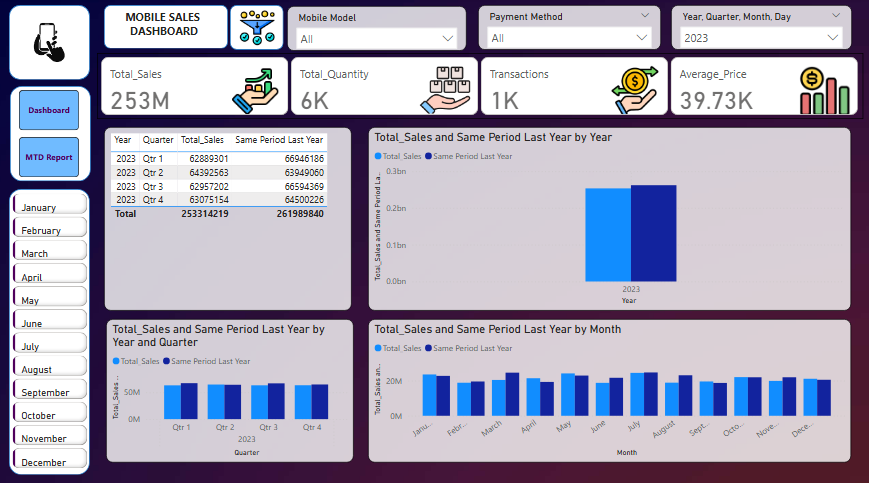

The dashboard page shown, as its layout file describes it:
{"tool":"powerbi","page":{"name":"Same Period Last Year","canvas":[1280,720],"ordinal":2},"visuals":[{"type":"shape","box":[13.2,11.8,119,110.2],"z":0},{"type":"image","box":[12.9,11.4,118.6,110],"z":1000},{"type":"shape","box":[14.3,131.4,118.6,140],"z":2000},{"type":"shape","box":[12.9,281.4,118.6,420],"z":3000},{"type":"advancedSlicerVisual","fields":{"Values":["Custom_Calendar.Date.Variation.Date Hierarchy.Month"]},"box":[12.9,282.9,120,418.6],"z":4000},{"type":"cardVisual","fields":{"Data":["sales_data.Total_Sales","sales_data.Total_Quantity","sales_data.Transactions","sales_data.Average_Price"]},"box":[142.9,82.9,1125.7,97.1],"z":5000},{"type":"slicer","fields":{"Values":["sales_data.Mobile Model"]},"box":[421.4,12.9,264.3,65.7],"z":6000},{"type":"slicer","fields":{"Values":["sales_data.Payment Method"]},"box":[702.9,11.4,268.6,65.7],"z":7000},{"type":"slicer","fields":{"Values":["Custom_Calendar.Date.Variation.Date Hierarchy.Year","Custom_Calendar.Date.Variation.Date Hierarchy.Quarter","Custom_Calendar.Date.Variation.Date Hierarchy.Month","Custom_Calendar.Date.Variation.Date Hierarchy.Day"]},"box":[985.7,11.4,265.7,65.7],"z":8000},{"type":"shape","box":[338.6,11.4,78.6,65.7],"z":9000},{"type":"image","box":[335.7,12.9,85.7,64.3],"z":10000},{"type":"shape","box":[152.9,11.4,182.9,64.3],"z":11000},{"type":"textbox","box":[165.7,12.9,150,54.3],"z":12000},{"type":"tableEx","fields":{"Values":["Custom_Calendar.Date.Variation.Date Hierarchy.Year","Custom_Calendar.Date.Variation.Date Hierarchy.Quarter","sales_data.Total_Sales","sales_data.Same Period Last Year"]},"box":[152.9,191.4,364.3,270],"z":13000},{"type":"clusteredColumnChart","fields":{"Category":["Custom_Calendar.Date.Variation.Date Hierarchy.Year","Custom_Calendar.Date.Variation.Date Hierarchy.Quarter"],"Y":["sales_data.Total_Sales","sales_data.Same Period Last Year"]},"box":[541.4,191.4,710,270],"z":14000},{"type":"clusteredColumnChart","fields":{"Y":["sales_data.Total_Sales","sales_data.Same Period Last Year"],"Category":["Custom_Calendar.Date.Variation.Date Hierarchy.Year","Custom_Calendar.Date.Variation.Date Hierarchy.Quarter","Custom_Calendar.Date.Variation.Date Hierarchy.Month","Custom_Calendar.Date.Variation.Date Hierarchy.Day"]},"box":[541.4,472.9,710,211.4],"z":15000},{"type":"clusteredColumnChart","fields":{"Category":["Custom_Calendar.Date.Variation.Date Hierarchy.Year","Custom_Calendar.Date.Variation.Date Hierarchy.Quarter"],"Y":["sales_data.Total_Sales","sales_data.Same Period Last Year"]},"box":[155.7,472.9,364.3,211.4],"z":16000},{"type":"pageNavigator","box":[28.6,137.1,88.6,128.6],"z":17000}]}

Visuals, with their boxes in screenshot pixels (x1, y1, x2, y2), scaled from the page's 1280x720 canvas onto the 869x483 screenshot:
shape: [x1=9, y1=8, x2=90, y2=82]
image: [x1=9, y1=8, x2=89, y2=81]
shape: [x1=10, y1=88, x2=90, y2=182]
shape: [x1=9, y1=189, x2=89, y2=471]
advancedSlicerVisual - Custom_Calendar.Date.Variation.Date Hierarchy.Month: [x1=9, y1=190, x2=90, y2=471]
cardVisual - sales_data.Total_Sales x sales_data.Total_Quantity: [x1=97, y1=56, x2=861, y2=121]
slicer - sales_data.Mobile Model: [x1=286, y1=9, x2=466, y2=53]
slicer - sales_data.Payment Method: [x1=477, y1=8, x2=660, y2=52]
slicer - Custom_Calendar.Date.Variation.Date Hierarchy.Year x Custom_Calendar.Date.Variation.Date Hierarchy.Quarter: [x1=669, y1=8, x2=850, y2=52]
shape: [x1=230, y1=8, x2=283, y2=52]
image: [x1=228, y1=9, x2=286, y2=52]
shape: [x1=104, y1=8, x2=228, y2=51]
textbox: [x1=112, y1=9, x2=214, y2=45]
tableEx - Custom_Calendar.Date.Variation.Date Hierarchy.Year x Custom_Calendar.Date.Variation.Date Hierarchy.Quarter: [x1=104, y1=128, x2=351, y2=310]
clusteredColumnChart - Custom_Calendar.Date.Variation.Date Hierarchy.Year x Custom_Calendar.Date.Variation.Date Hierarchy.Quarter: [x1=368, y1=128, x2=850, y2=310]
clusteredColumnChart - sales_data.Total_Sales x sales_data.Same Period Last Year: [x1=368, y1=317, x2=850, y2=459]
clusteredColumnChart - Custom_Calendar.Date.Variation.Date Hierarchy.Year x Custom_Calendar.Date.Variation.Date Hierarchy.Quarter: [x1=106, y1=317, x2=353, y2=459]
pageNavigator: [x1=19, y1=92, x2=80, y2=178]
